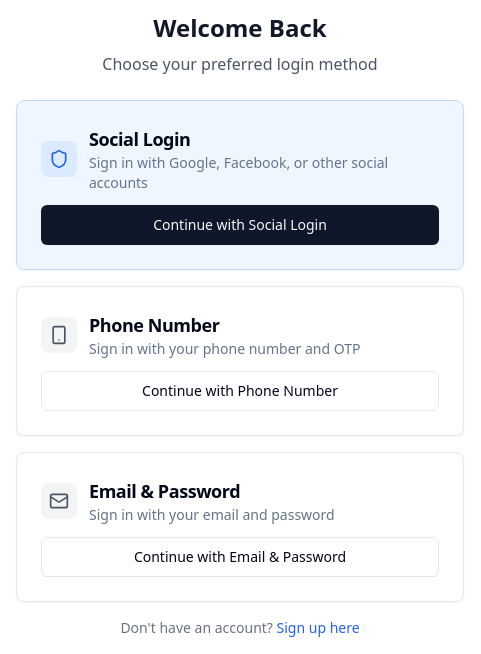
it: Login Component › shows phone login when phone method is selected
The width and height of the screenshot is (481, 654).
Click the text "Phone Number".
click(154, 325)  # box [89, 313, 360, 358]
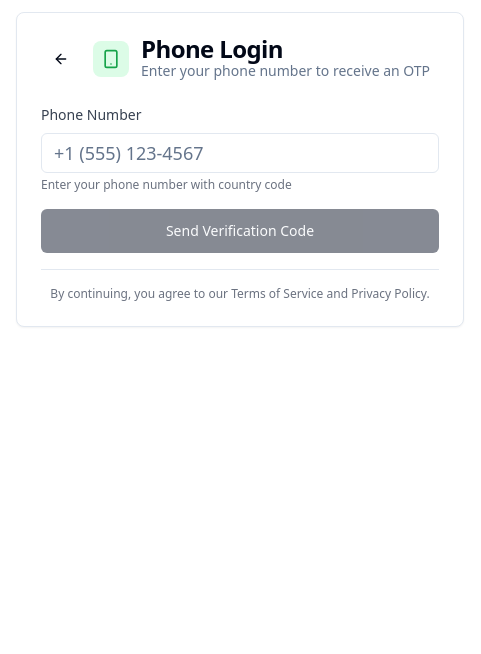
Expected: the heading "Phone Login" is shown, [141, 32, 283, 65]
Expected: the field with placeholder "+1 (555) 123-4567" is shown, [41, 133, 439, 173]
